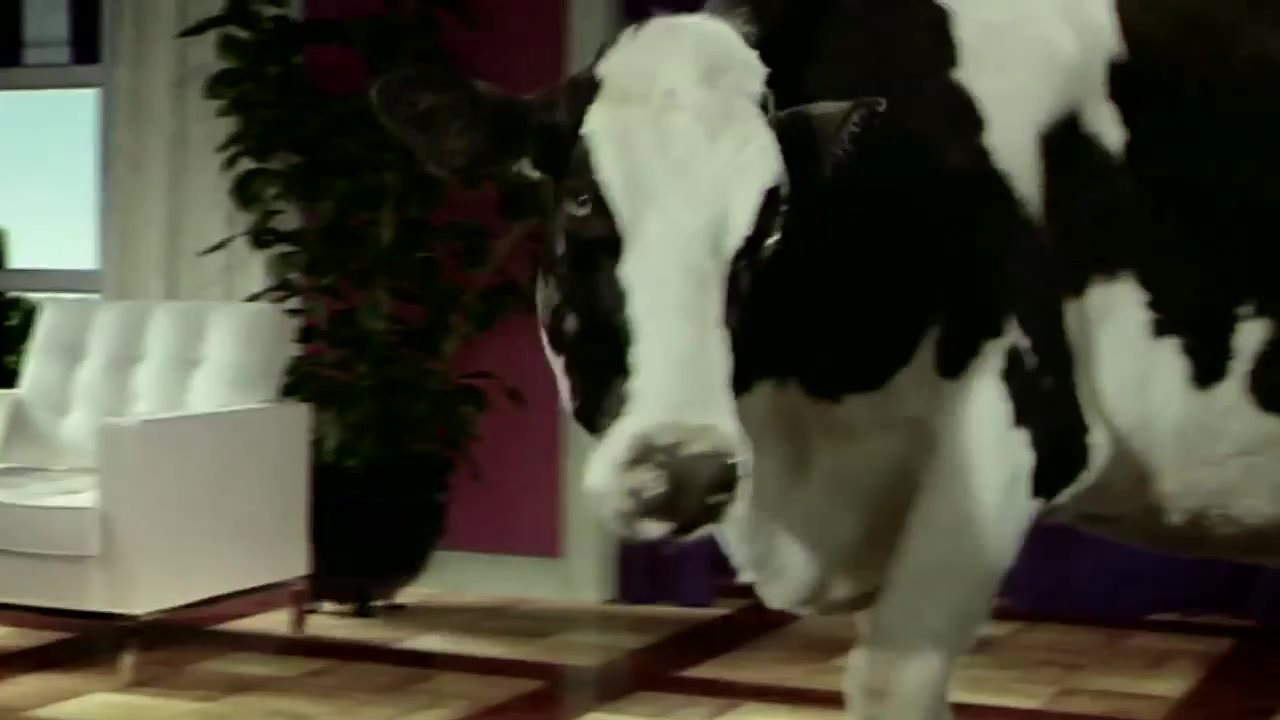cow: (377, 2, 1280, 720)
